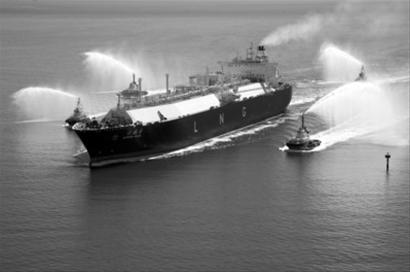Cargoship: (70, 39, 295, 167)
otherboat: (284, 116, 325, 151), (65, 99, 90, 127)
